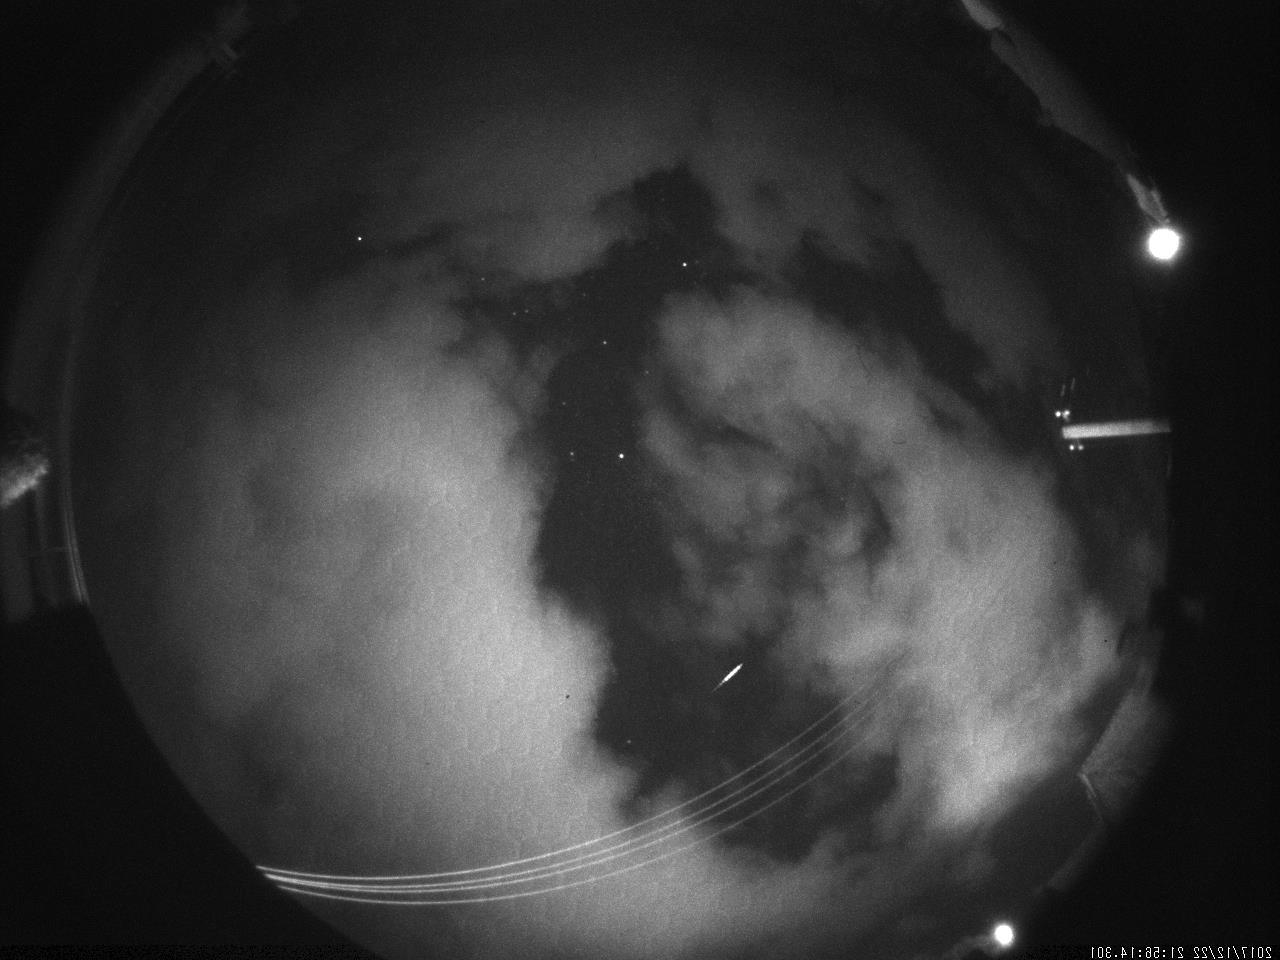meteor: (703, 656, 765, 700)
